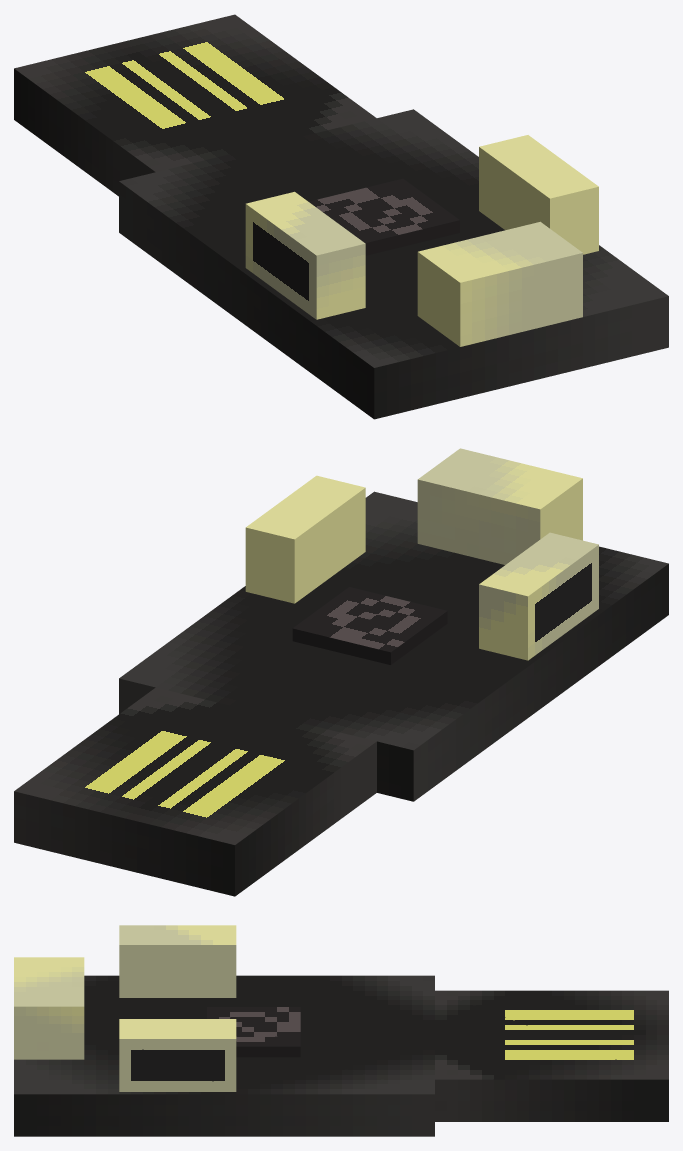
The model's file is rp2040_trinkey.gltf.
3 views of the same model, one above another, from view 1: azimuth 30°, elevation 25°; view 2: azimuth 150°, elevation 25°; view 3: azimuth 270°, elevation 25° (orthographic). The views are drawn at different scales.
Visible parts, largest first — view 1: cuboid (×2), stemma0, button0, button1, rp2040; view 2: cuboid (×2), stemma0, button1, button0, rp2040; view 3: cuboid (×2), button0, button1, stemma0, rp2040.
Part boxes in pixels (bbox=[...]): cuboid (×2): bbox=[14, 14, 668, 419]; stemma0: bbox=[417, 221, 582, 346]; button0: bbox=[245, 191, 365, 319]; button1: bbox=[479, 135, 598, 254]; rp2040: bbox=[309, 178, 459, 255]; cuboid (×2): bbox=[14, 491, 668, 896]; stemma0: bbox=[417, 448, 582, 564]; button1: bbox=[245, 475, 365, 603]; button0: bbox=[479, 532, 598, 660]; rp2040: bbox=[292, 587, 447, 664]; cuboid (×2): bbox=[14, 975, 668, 1136]; button0: bbox=[119, 925, 236, 997]; button1: bbox=[119, 1019, 236, 1091]; stemma0: bbox=[14, 957, 84, 1059]; rp2040: bbox=[207, 1007, 300, 1057].
Size of the model in its own units: 0.75 by 0.2812 by 1.75.
Materials: 1 (1 with a texture image).
